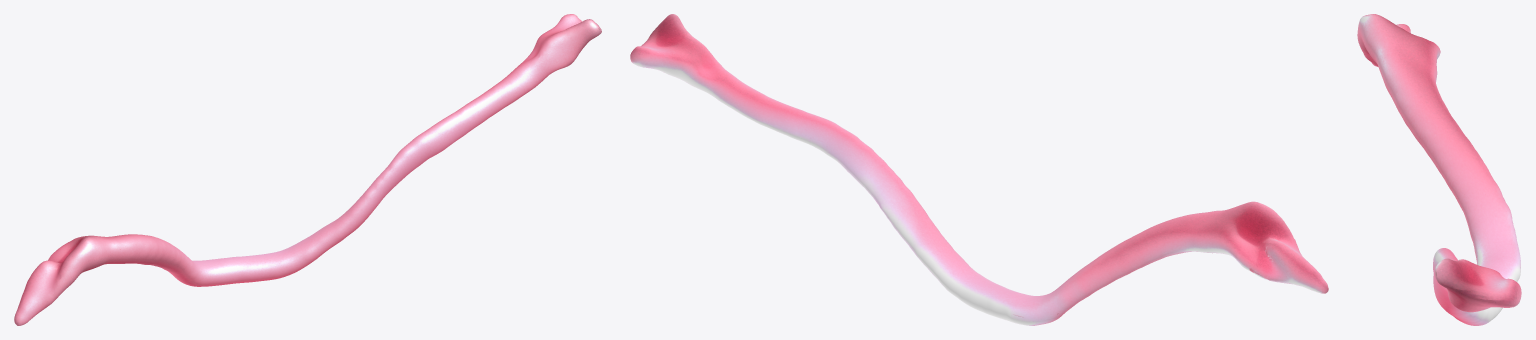
Rendered from Etudiants_3D.gltf.
3 views of the same model, side by side, from view 1: azimuth 30°, elevation 25°; view 2: azimuth 150°, elevation 25°; view 3: azimuth 270°, elevation 25° (orthographic). The views are drawn at different scales.
Parts seen in each view (by area): view 1: Falco_Pauline; view 2: Falco_Pauline; view 3: Falco_Pauline.
Boxes of the visible parts, box(x1,y1,x2,y2) form: Falco_Pauline: box(14, 14, 601, 325); Falco_Pauline: box(630, 14, 1328, 325); Falco_Pauline: box(1357, 14, 1521, 325).
Size of the model in its own units: 26.41 by 7.96 by 4.68.
Materials: 1 (1 with a texture image).
